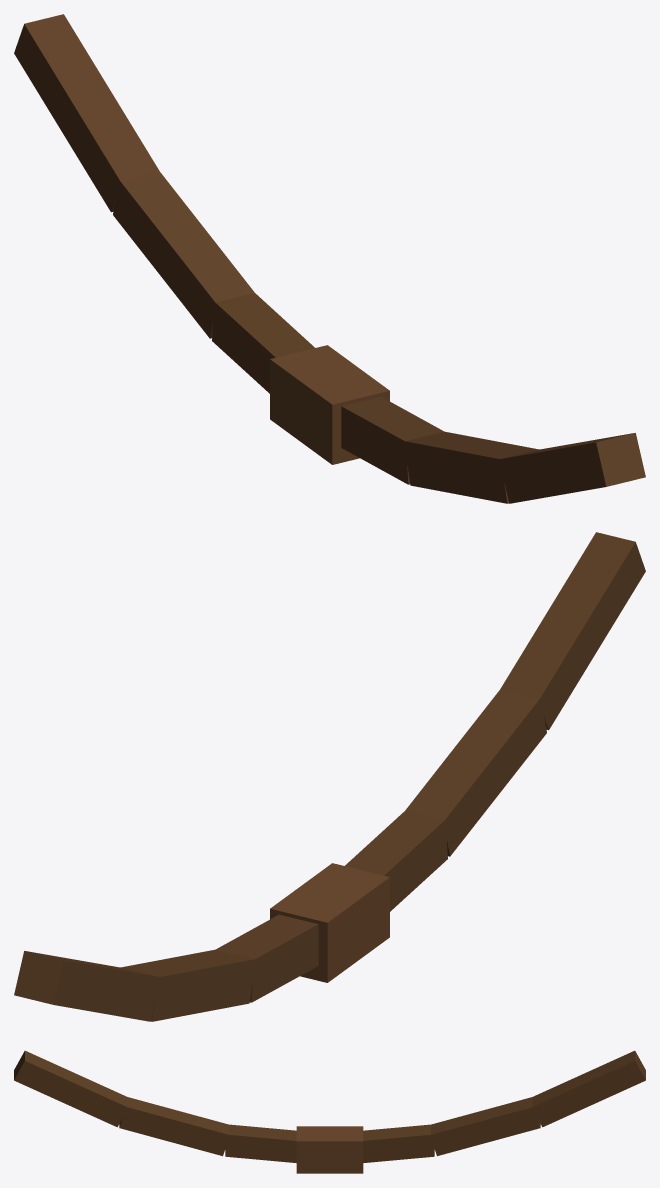
Rendered from fld_bow.glb.
3 views of the same model, one above another, from view 1: azimuth 30°, elevation 25°; view 2: azimuth 150°, elevation 25°; view 3: azimuth 270°, elevation 25° (orthographic). The views are drawn at different scales.
Parts seen in each view (by area): view 1: fld_bow; view 2: fld_bow; view 3: fld_bow.
Part boxes in pixels (box(x1,y1,x2,y2)): fld_bow: box(14, 14, 645, 503); fld_bow: box(14, 532, 645, 1021); fld_bow: box(14, 1050, 645, 1173).
Bounding box in the file's own units: 0.016 × 0.0549 × 0.2849.
